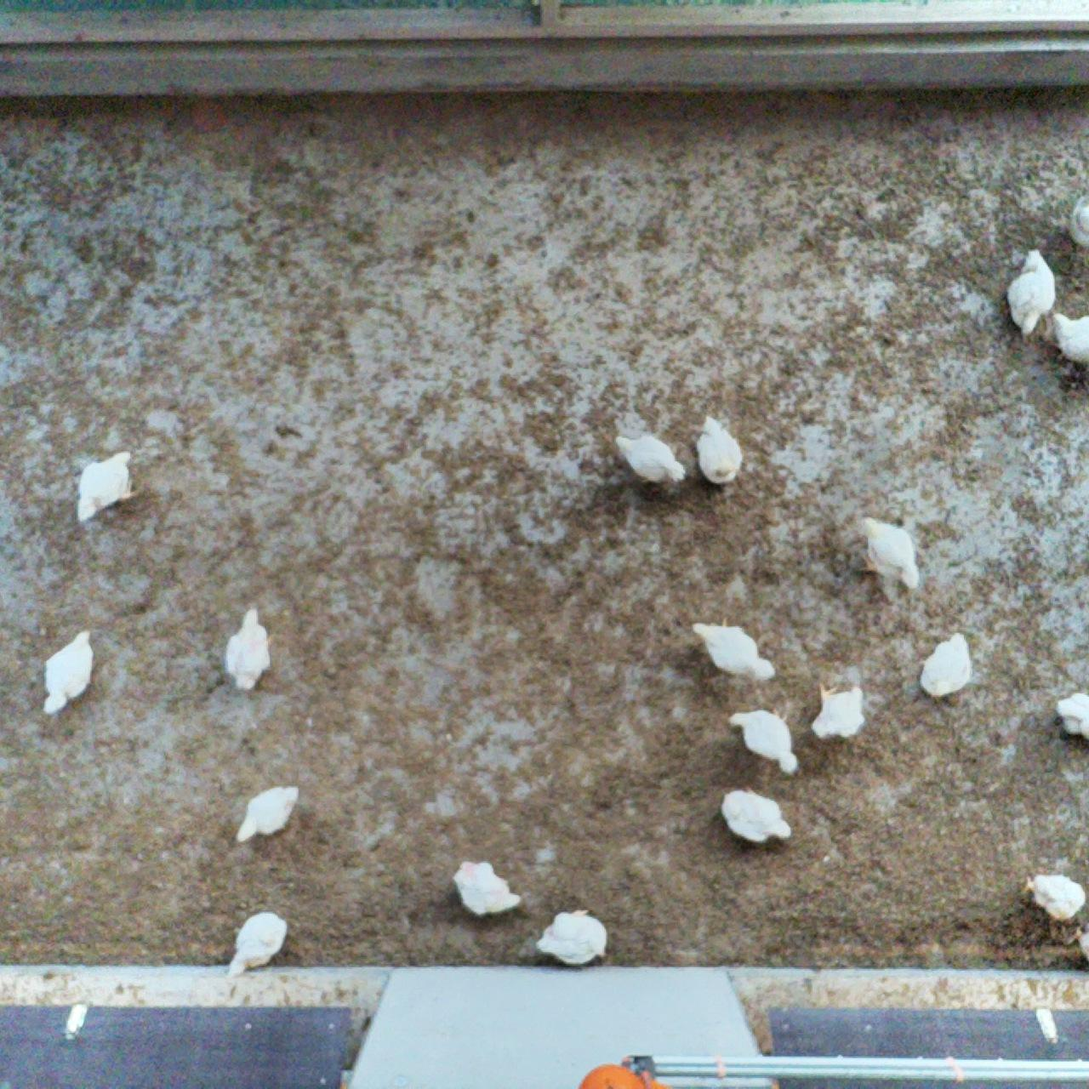chicken: (33, 627, 103, 721), (690, 612, 780, 685), (70, 442, 143, 531), (1000, 244, 1060, 339), (725, 706, 804, 777), (717, 779, 796, 849), (854, 513, 923, 593), (533, 901, 612, 970), (224, 907, 293, 986), (913, 627, 980, 705), (451, 855, 525, 924), (222, 600, 274, 698), (611, 429, 689, 490), (692, 411, 748, 490), (235, 784, 303, 847), (1018, 864, 1089, 924), (805, 680, 868, 747), (1044, 307, 1089, 368), (1052, 686, 1089, 740), (1064, 189, 1089, 248)
